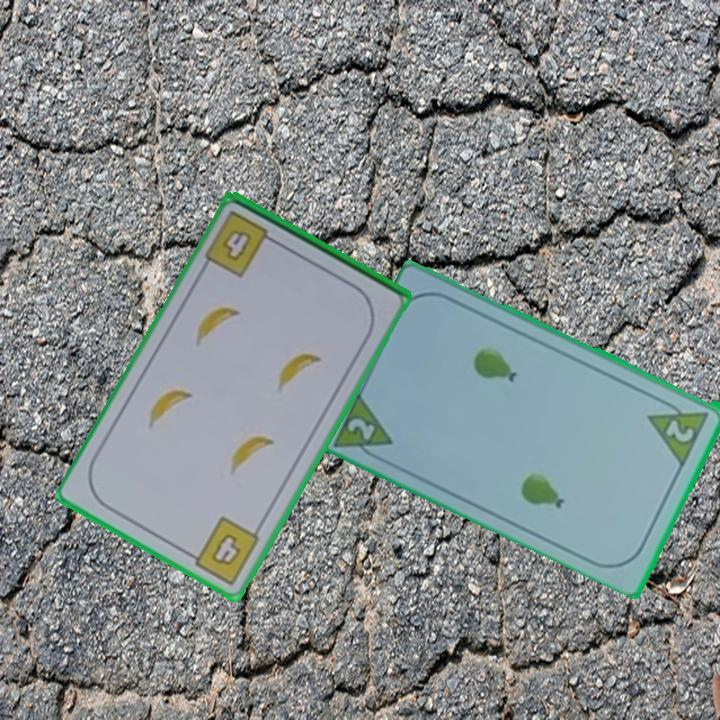2p: (332, 386, 397, 466), (645, 393, 713, 467)
4b: (182, 513, 263, 589), (201, 207, 282, 281)
